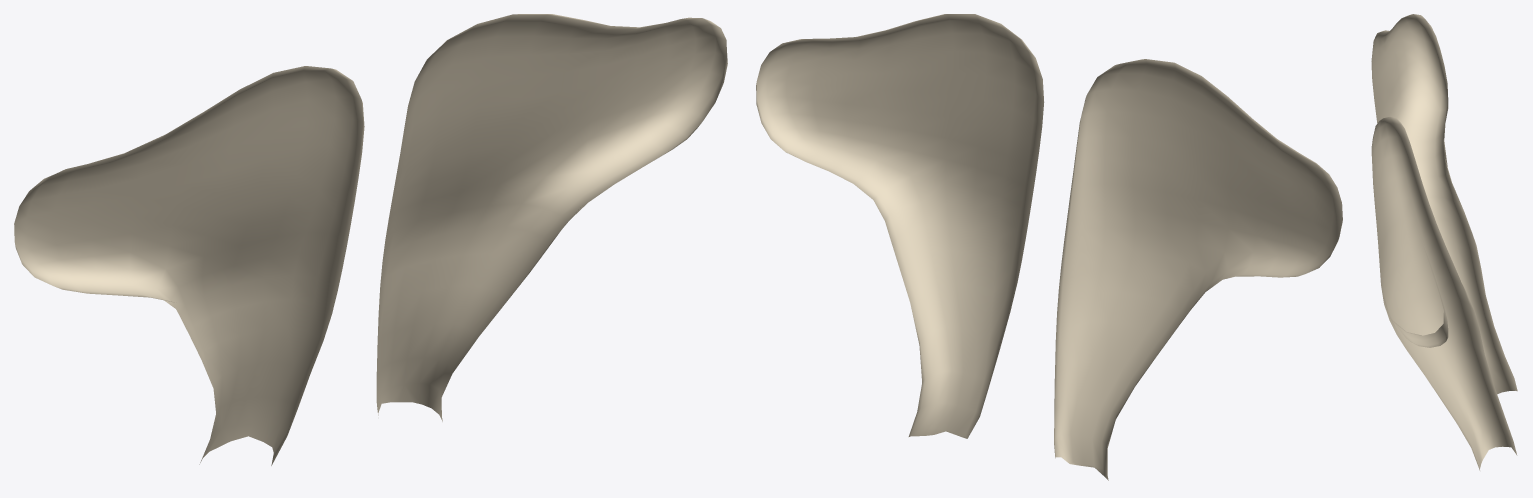
Rendered from sinus-of-frontal-bone.glb.
3 renders of one model, left to right at view 1: azimuth 30°, elevation 25°; view 2: azimuth 150°, elevation 25°; view 3: azimuth 270°, elevation 25°, orthographic. The views are drawn at different scales.
Parts seen in each view (by area): view 1: Sinus of frontal bone; view 2: Sinus of frontal bone; view 3: Sinus of frontal bone.
Boxes of the visible parts, <box> form: Sinus of frontal bone: <box>14,14,727,465</box>; Sinus of frontal bone: <box>756,14,1342,480</box>; Sinus of frontal bone: <box>1371,14,1517,470</box>.
Size of the model in its own units: 0.0504 by 0.0312 by 0.0116.
